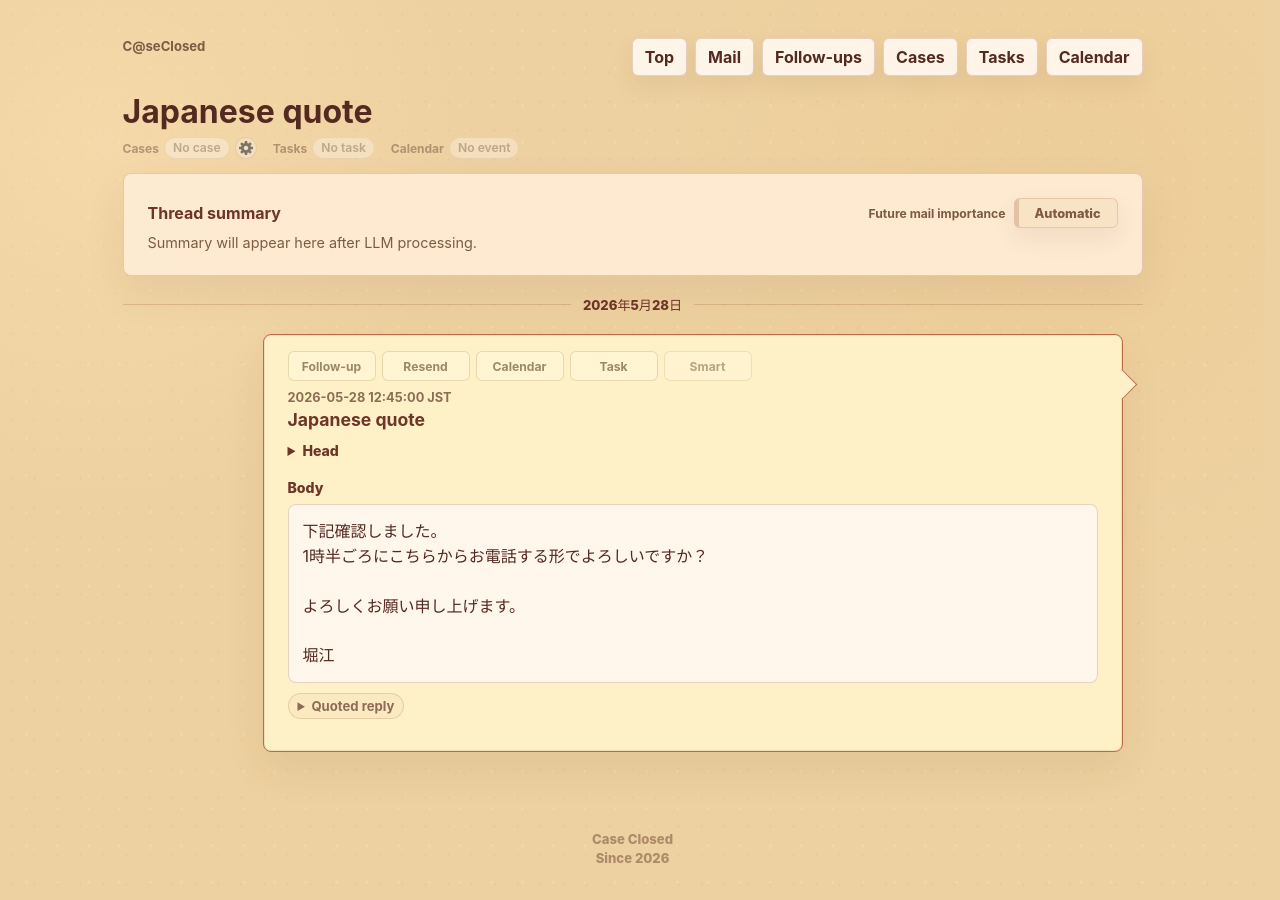
Test: Phase 4 mail screen › collapses Japanese Gmail quoted reply sections in sent mail bodies
Check: the text "下記確認しました。 1時半ごろにこちらからお電話する形でよろしいですか？ よろしくお願い申し上げます。 堀江" is shown, box [288, 504, 1098, 683]
Click the heading "Quoted reply": (346,706) [288, 693, 404, 719]
(page scrolled)
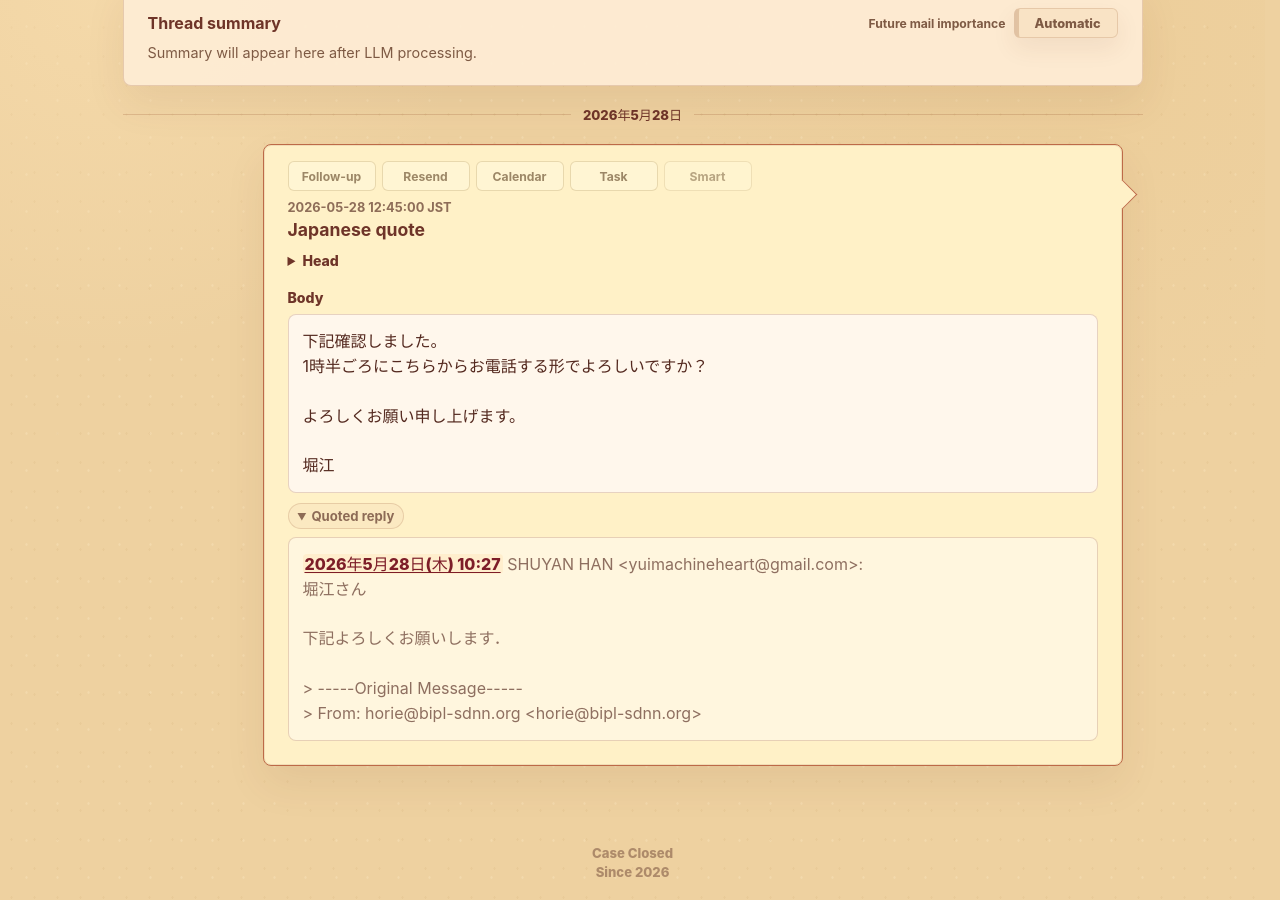
Check: the text "堀江さん" is shown, box [302, 554, 863, 723]
